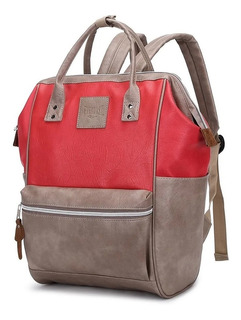cartera: (12, 14, 231, 301)
